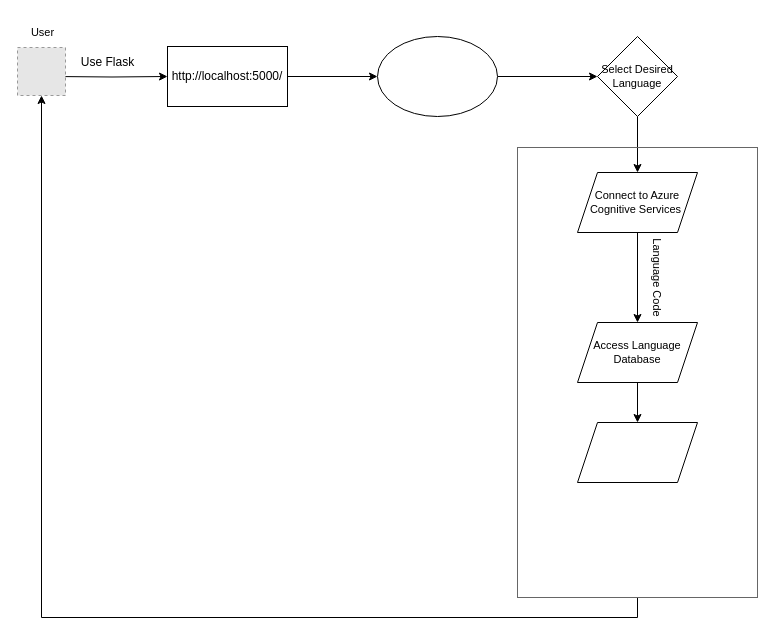
Some shapes in this 775 by 643 pixel diagram are drawn without their labels. Grey dashed boxes stand in for pictures. The centre of each missing label's shape, as x and y in pixels:
Enter text to translate: (x=437, y=76)
Translate to Desired Language: (x=637, y=452)
